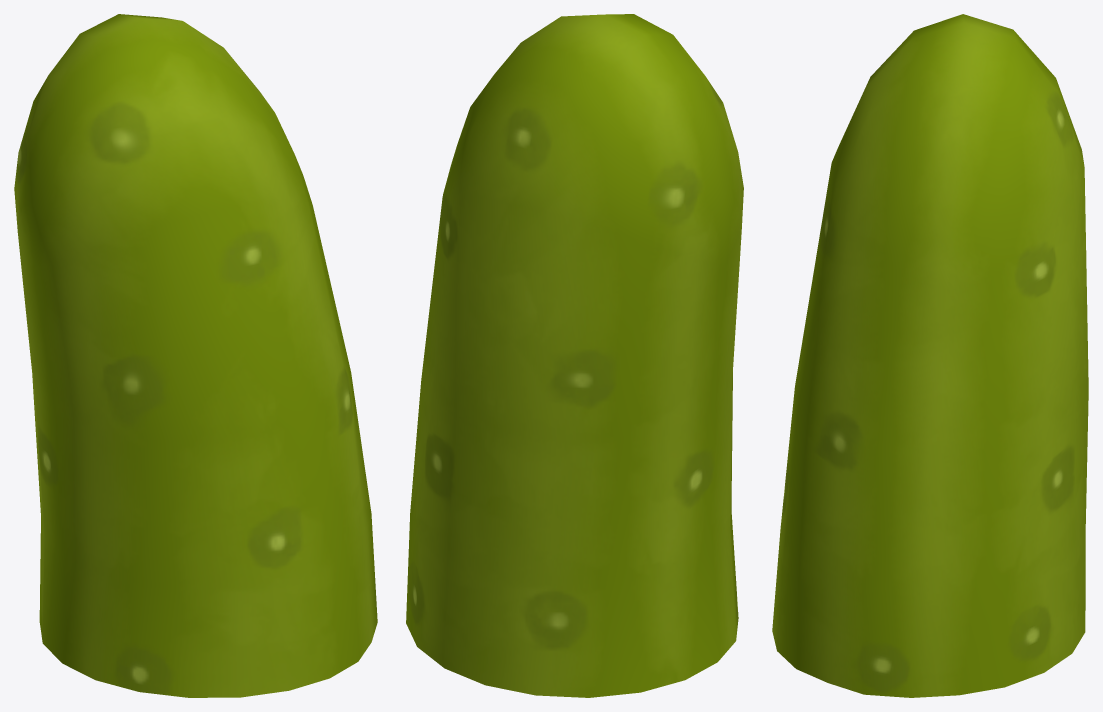
The model's file is pickle_top.glb.
3 renders of one model, left to right at view 1: azimuth 30°, elevation 25°; view 2: azimuth 150°, elevation 25°; view 3: azimuth 270°, elevation 25°, orthographic. The views are drawn at different scales.
Parts seen in each view (by area): view 1: PickleTopA; view 2: PickleTopA; view 3: PickleTopA.
Boxes of the visible parts, bbox=[...] form: PickleTopA: bbox=[14, 14, 377, 697]; PickleTopA: bbox=[406, 14, 743, 697]; PickleTopA: bbox=[772, 14, 1088, 697].
Bounding box in the file's own units: 0.4894 × 0.9416 × 0.4608.
1 material, 1 textured.
